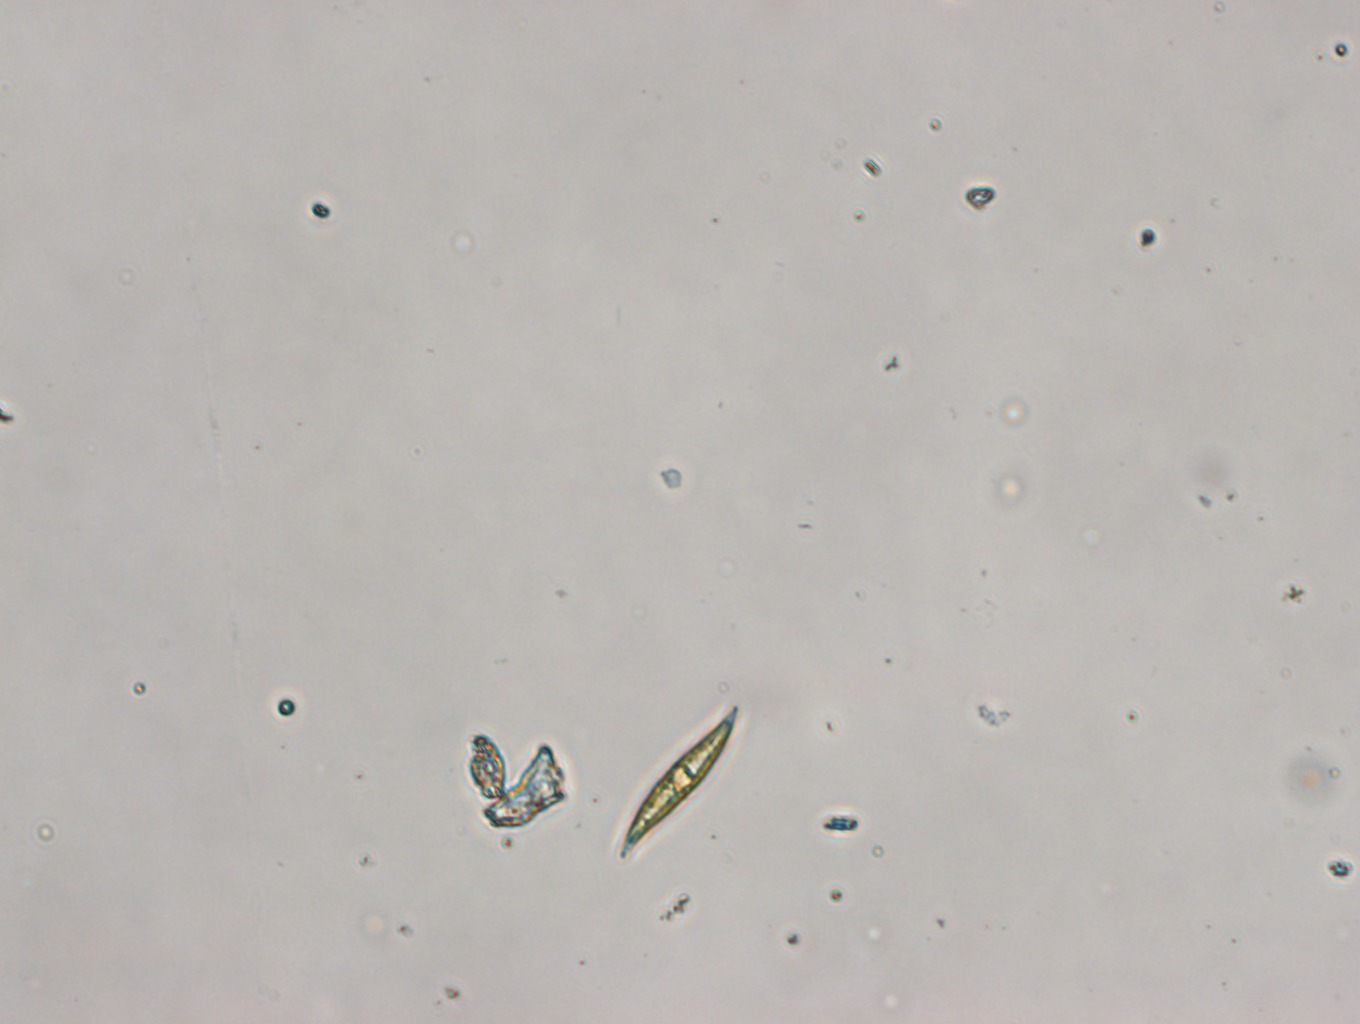pleurosigma pelagicum: (618, 706, 738, 863)
